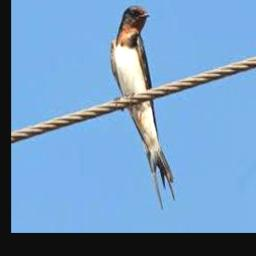Swallow: (110, 5, 175, 209)
